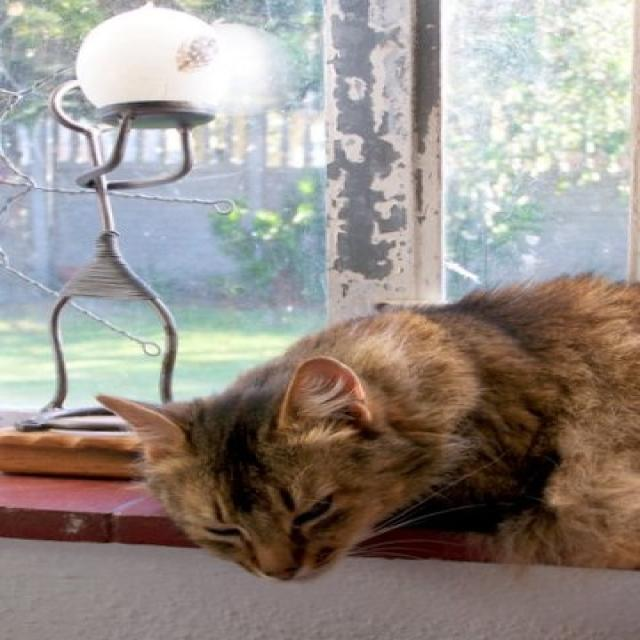cat: (94, 275, 638, 580)
